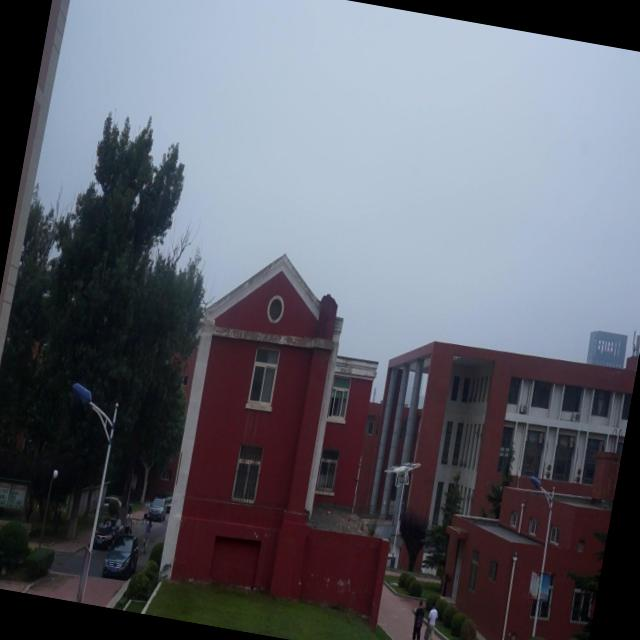drone: (382, 454, 421, 494)
